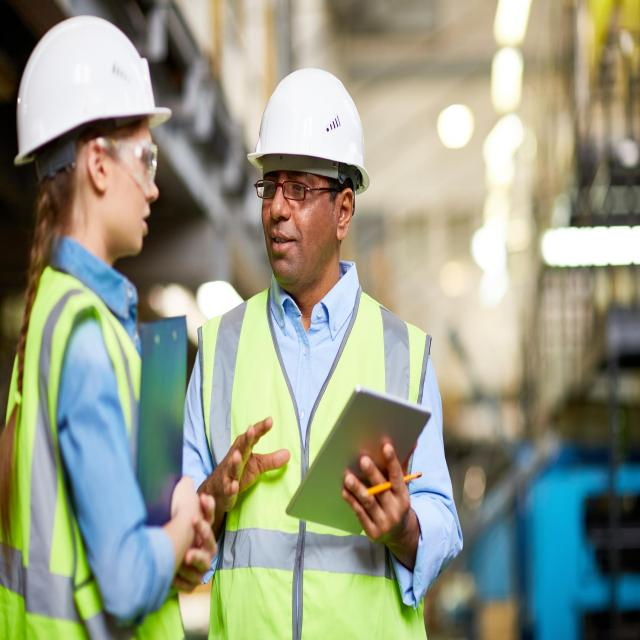Reflective-Jacket: (196, 282, 435, 635), (0, 266, 183, 638)
Safety-Helmet: (9, 12, 173, 168), (247, 61, 372, 192)
